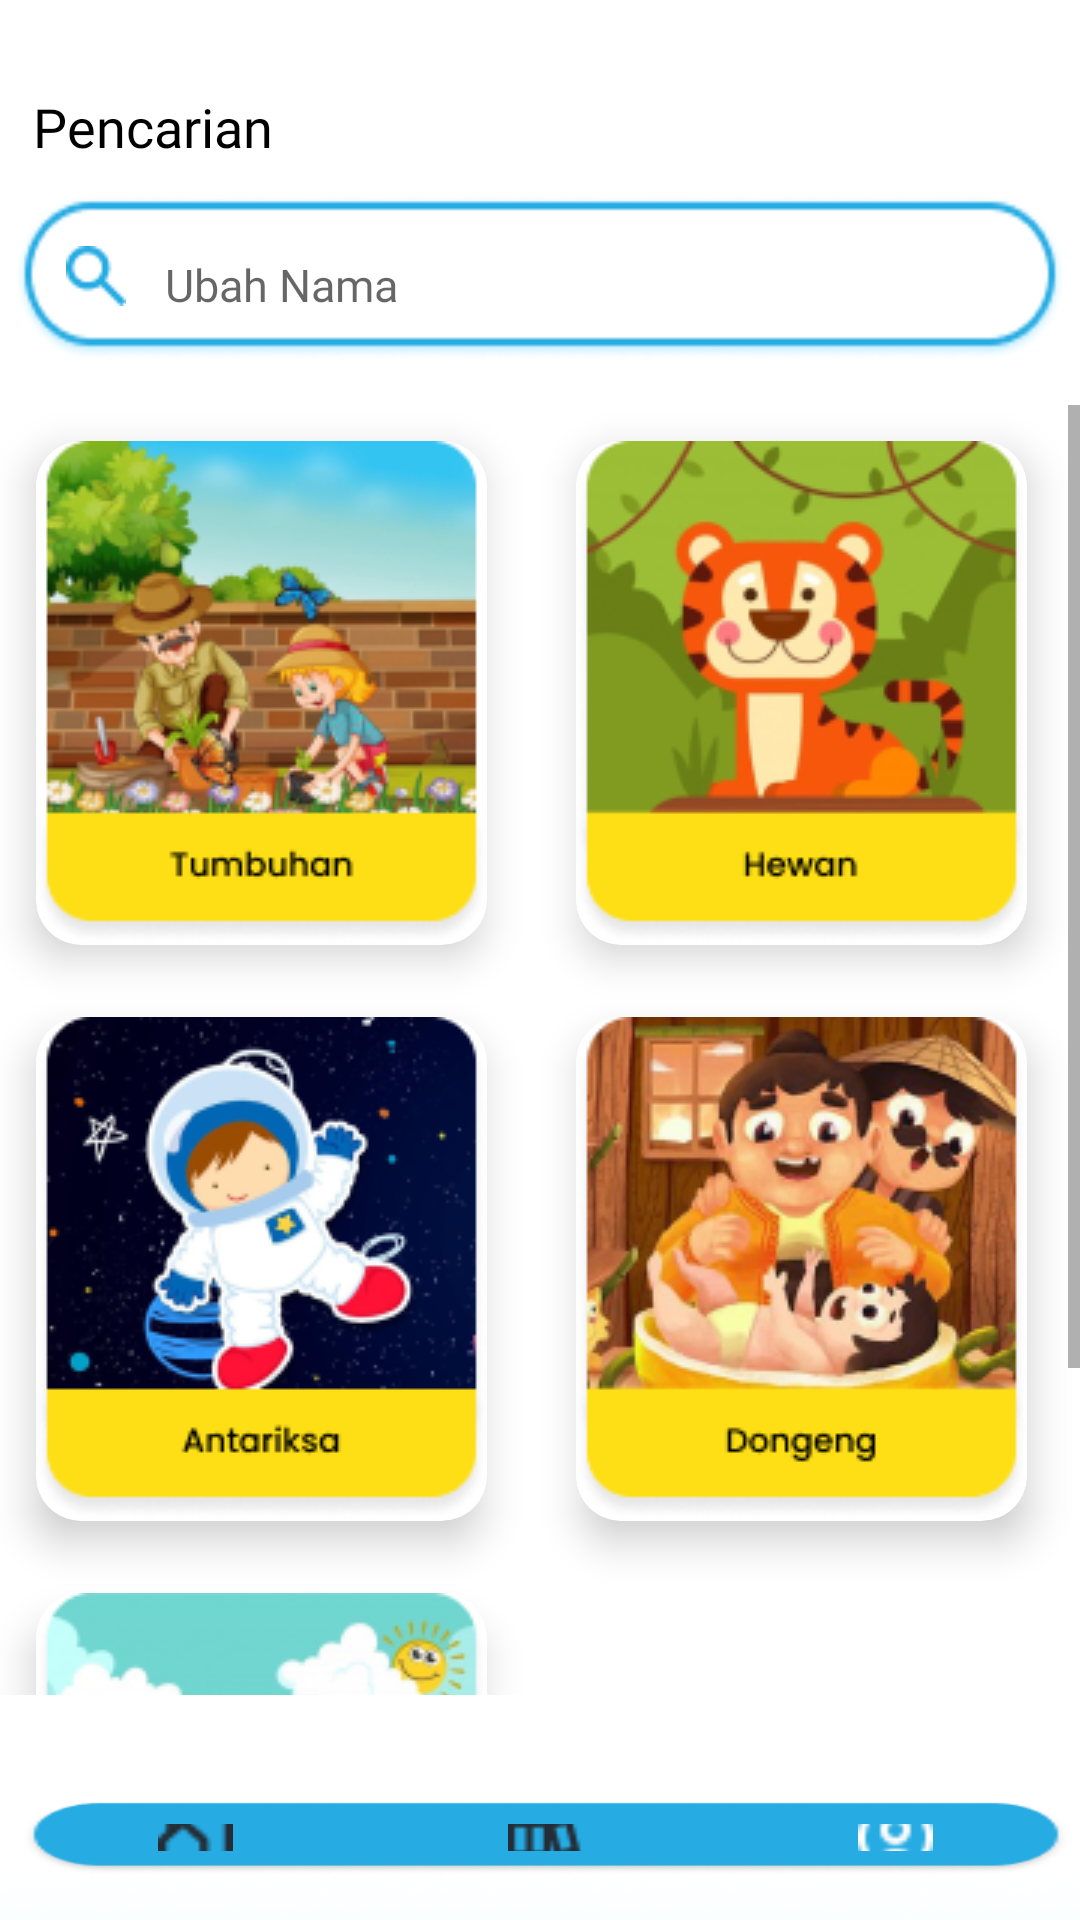

Where to tap for icons on this 1080*1920 app screen, as (x,y):
searchicon: (96,276)
